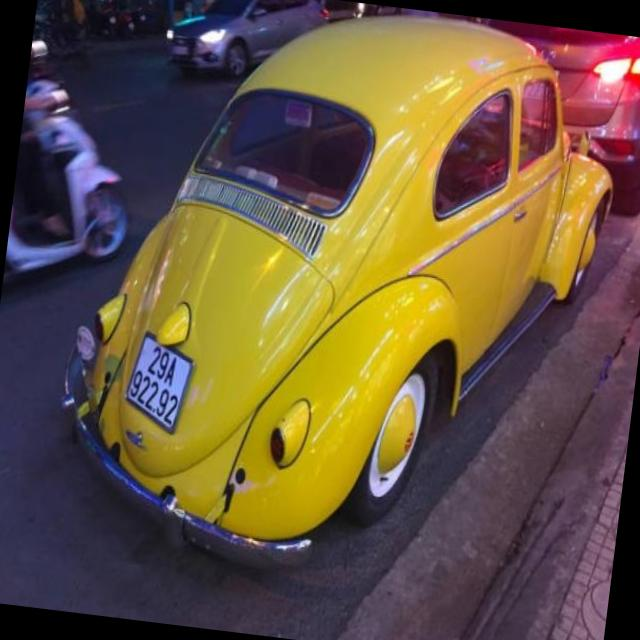car: (63, 0, 620, 572)
